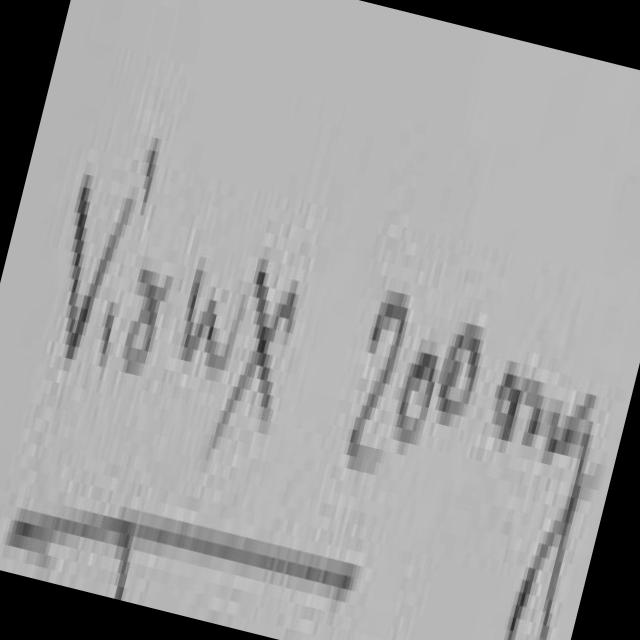0: (443, 326, 482, 425), (400, 353, 436, 441)
2: (351, 294, 409, 469)
V: (66, 175, 131, 358)
g: (508, 394, 598, 640)
i: (141, 138, 157, 209), (100, 302, 112, 361)
m: (500, 363, 562, 463)
r: (126, 270, 171, 373)
u: (182, 270, 218, 366)
x: (213, 273, 297, 448)
